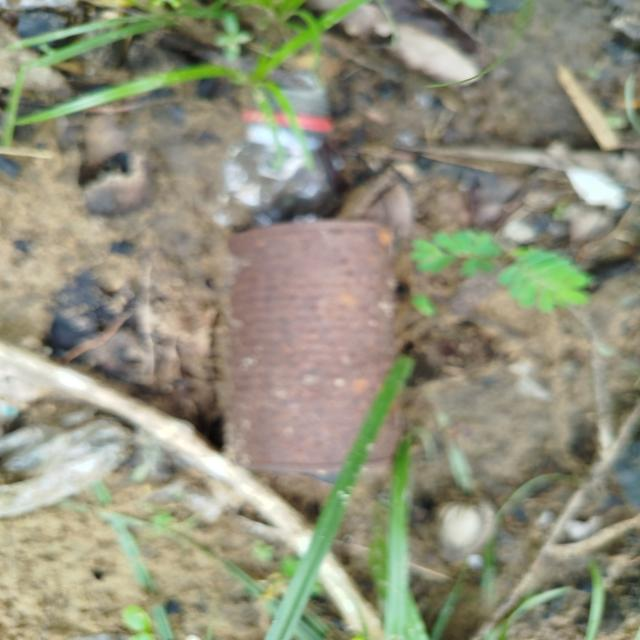metal: (209, 215, 424, 489)
